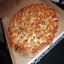pizza: (10, 6, 64, 49)
